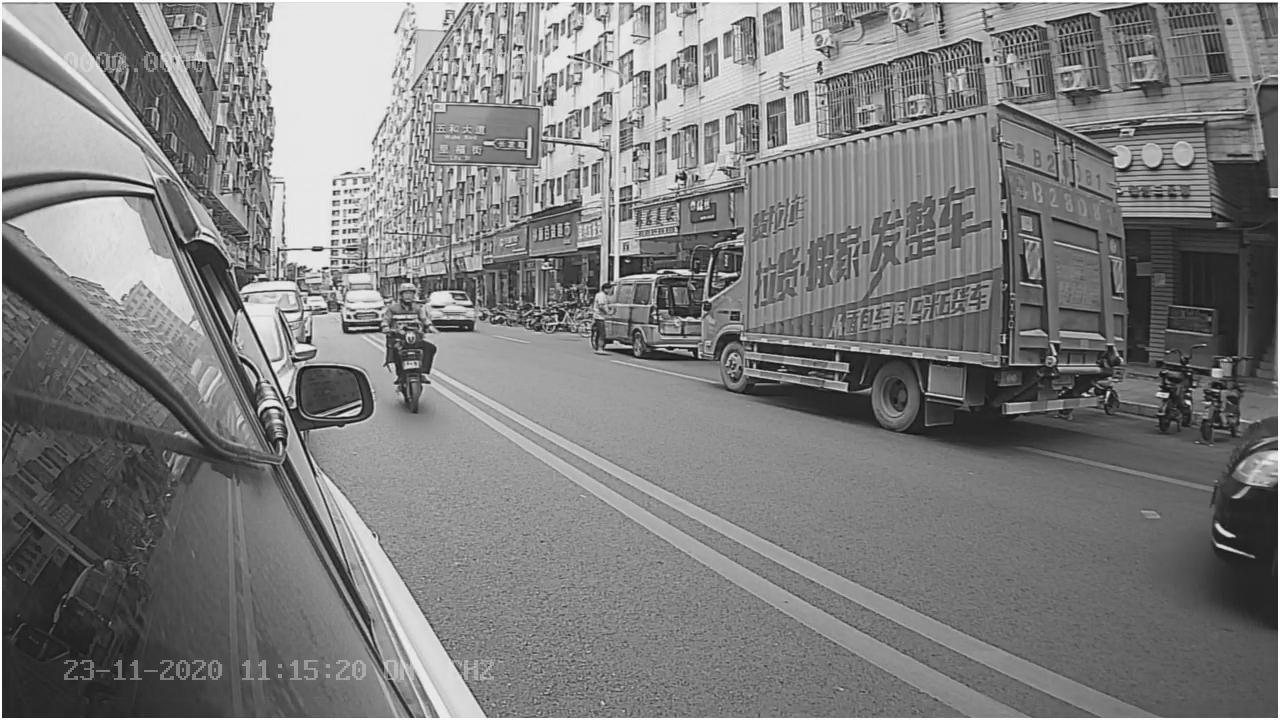person: (375, 281, 431, 333)
